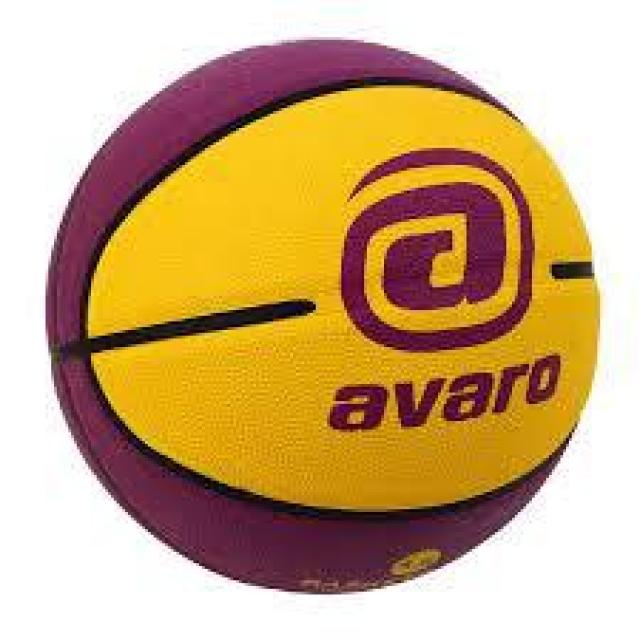ball: (40, 37, 603, 593)
